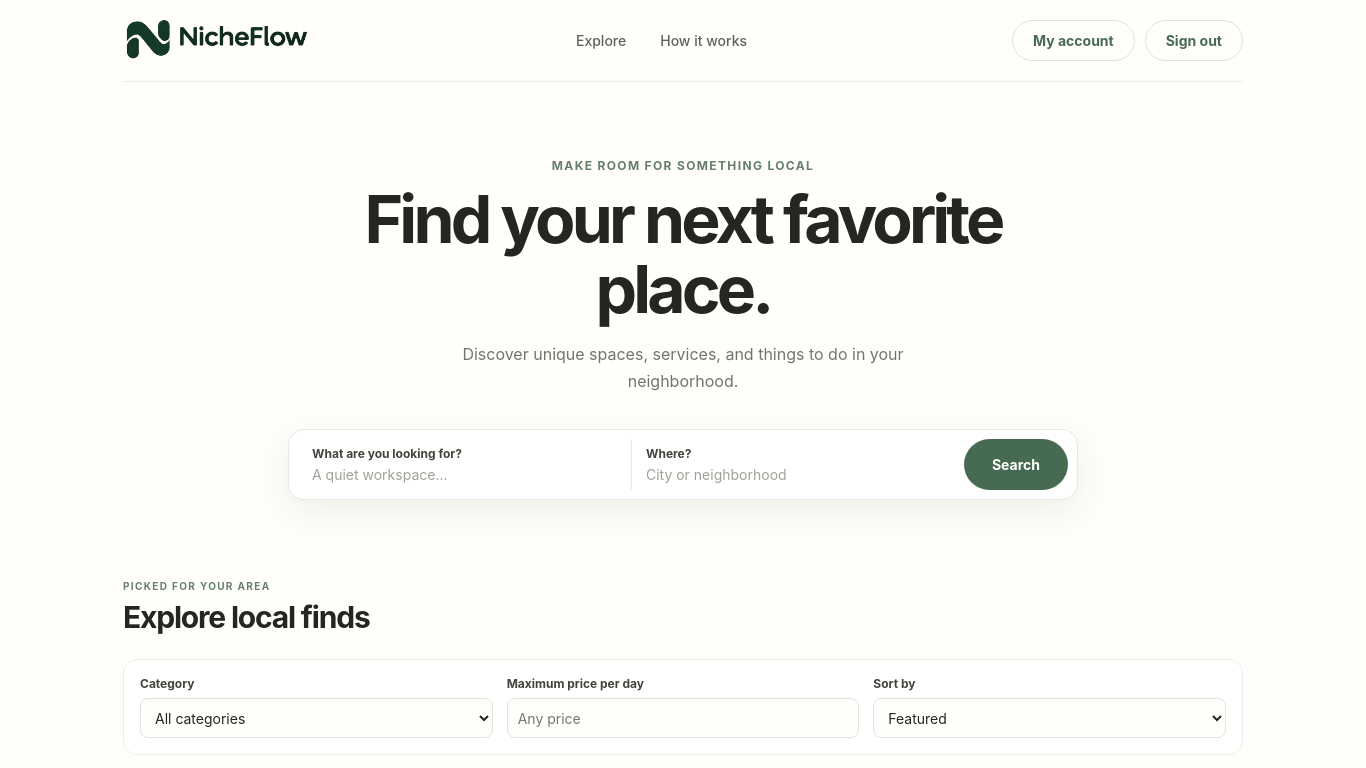
Test case: NicheFlow landing page › shows "See reviews" on load for a booking the caller already reviewed, with no review fetch needed
Click the link "My account" at x=1073, y=40, box [1012,20,1135,61]
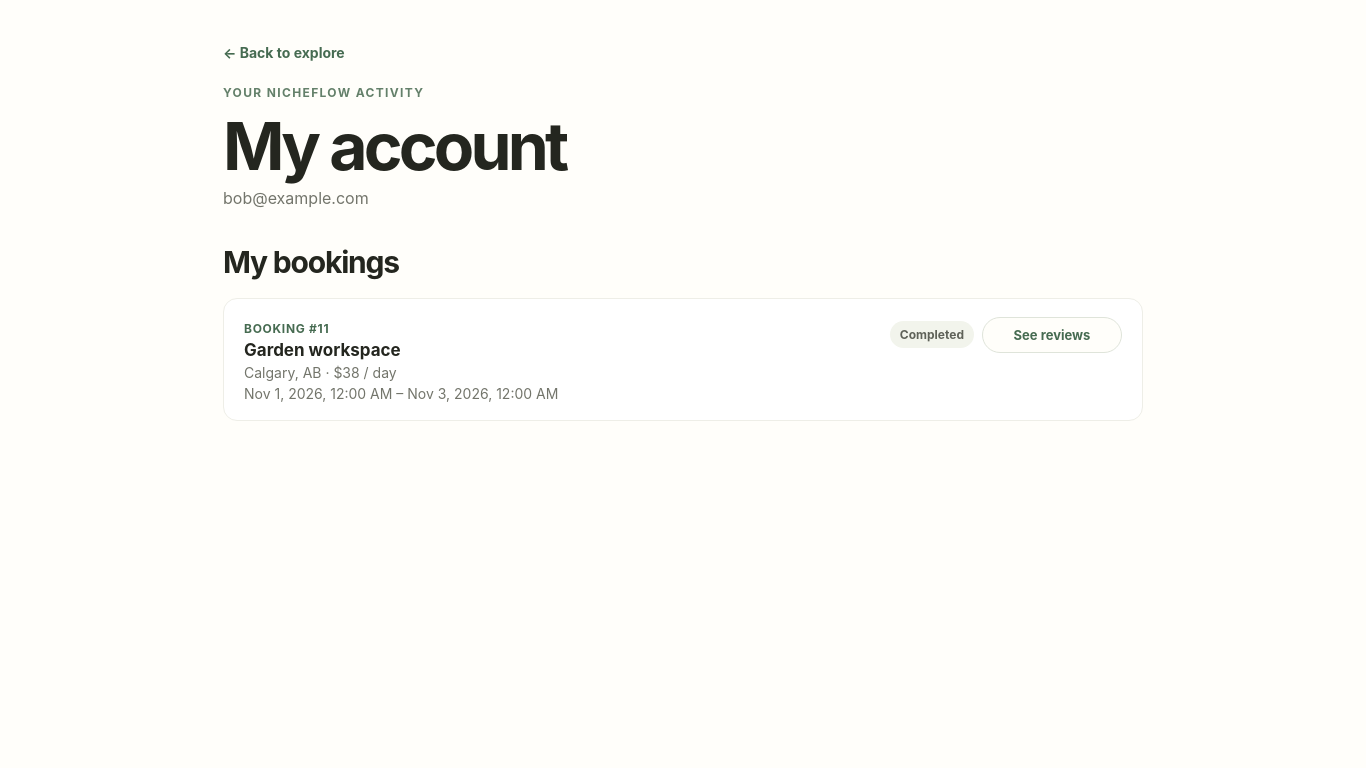
Check: the button "See reviews" is shown, box [982,317,1122,353]
